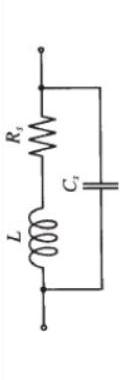inductor: (21, 199, 63, 278)
